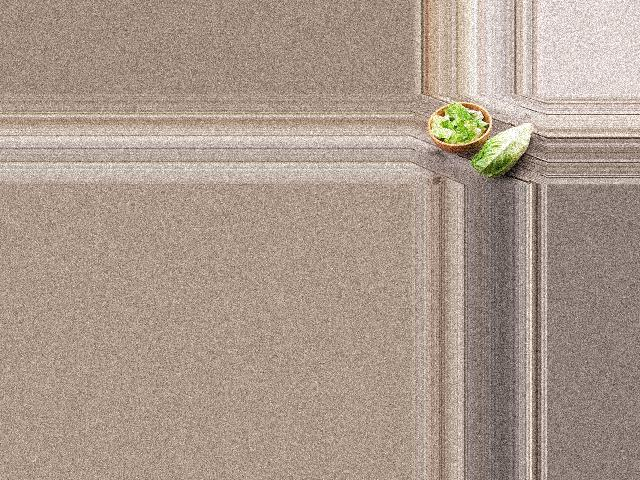lettuce: (471, 122, 531, 179)
